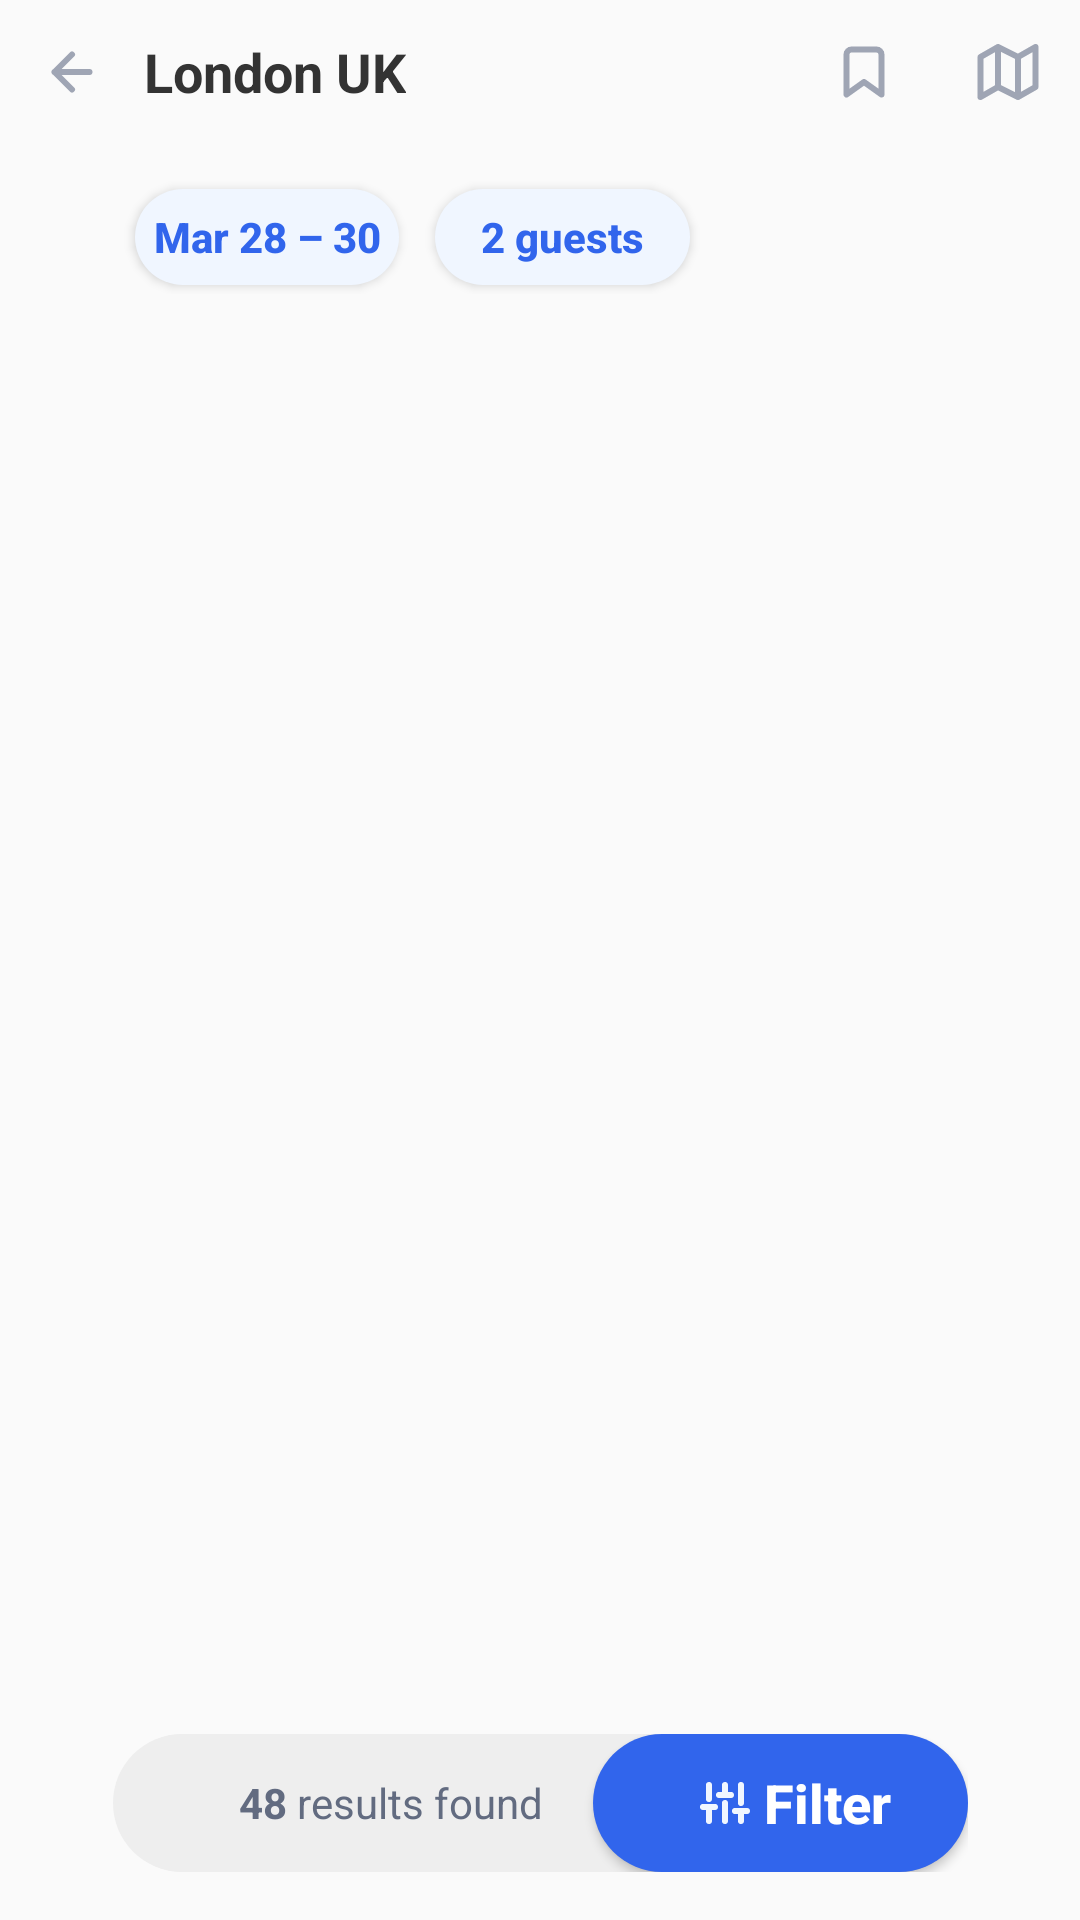

Named icons in this screenshot (1080px×1920px) and their centers, (x=x, y=y):
feather arrow left: (x=72, y=72)
feather bookmark: (x=864, y=72)
feather map: (x=1008, y=72)
